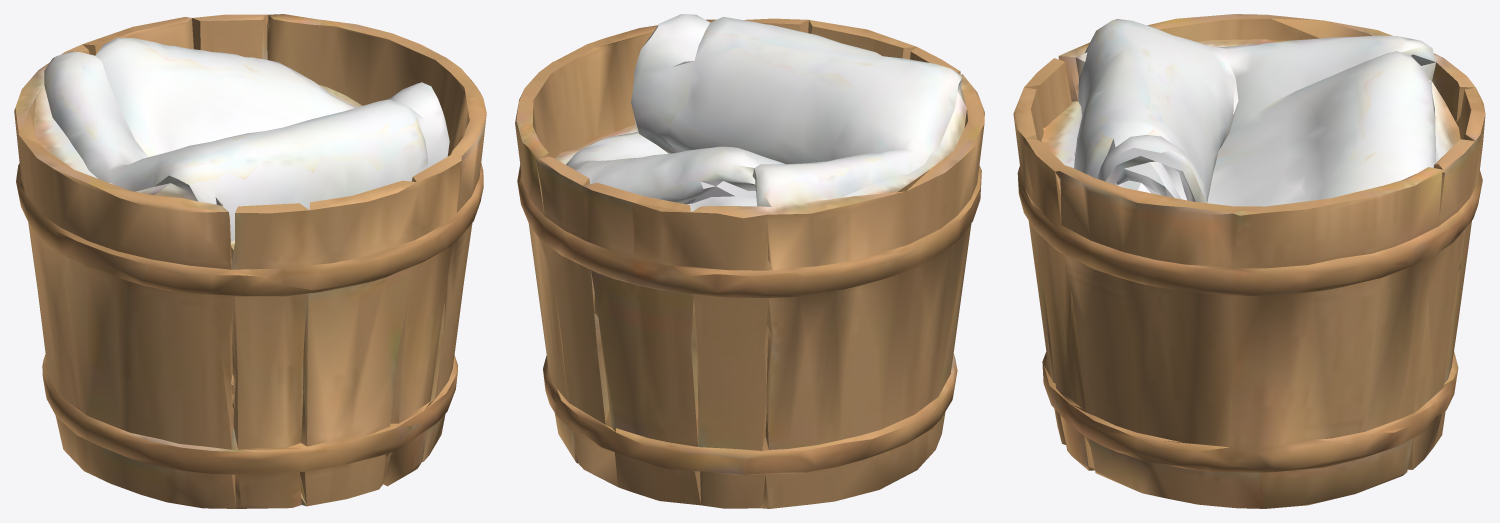
Rendered from pail.glb.
The picture shows the model from 3 angles, left to right: view 1: azimuth 30°, elevation 25°; view 2: azimuth 150°, elevation 25°; view 3: azimuth 270°, elevation 25°; orthographic projection.
Parts seen in each view (by area): view 1: pail; view 2: pail; view 3: pail.
Part boxes in pixels (x1,y1,x2,y2): pail: [14, 14, 486, 508]; pail: [515, 14, 984, 508]; pail: [1013, 14, 1485, 508].
Size of the model in its own units: 0.2952 by 0.2399 by 0.2949.
Materials: 1 (1 with a texture image).
